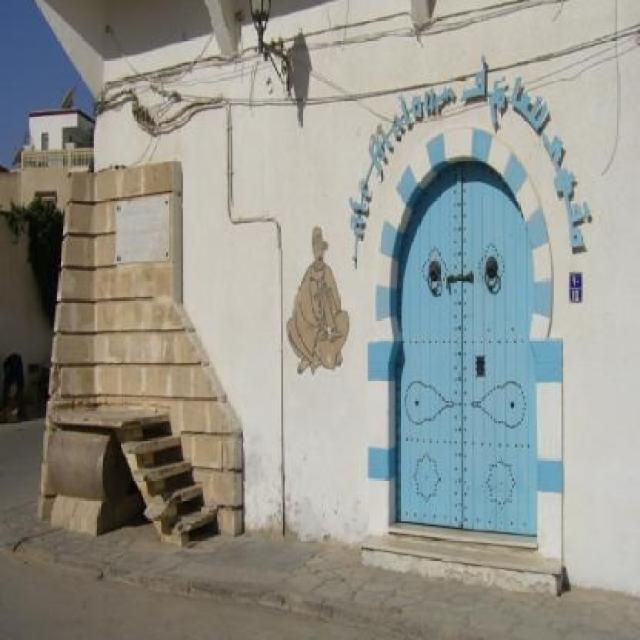stair: (114, 410, 220, 548)
